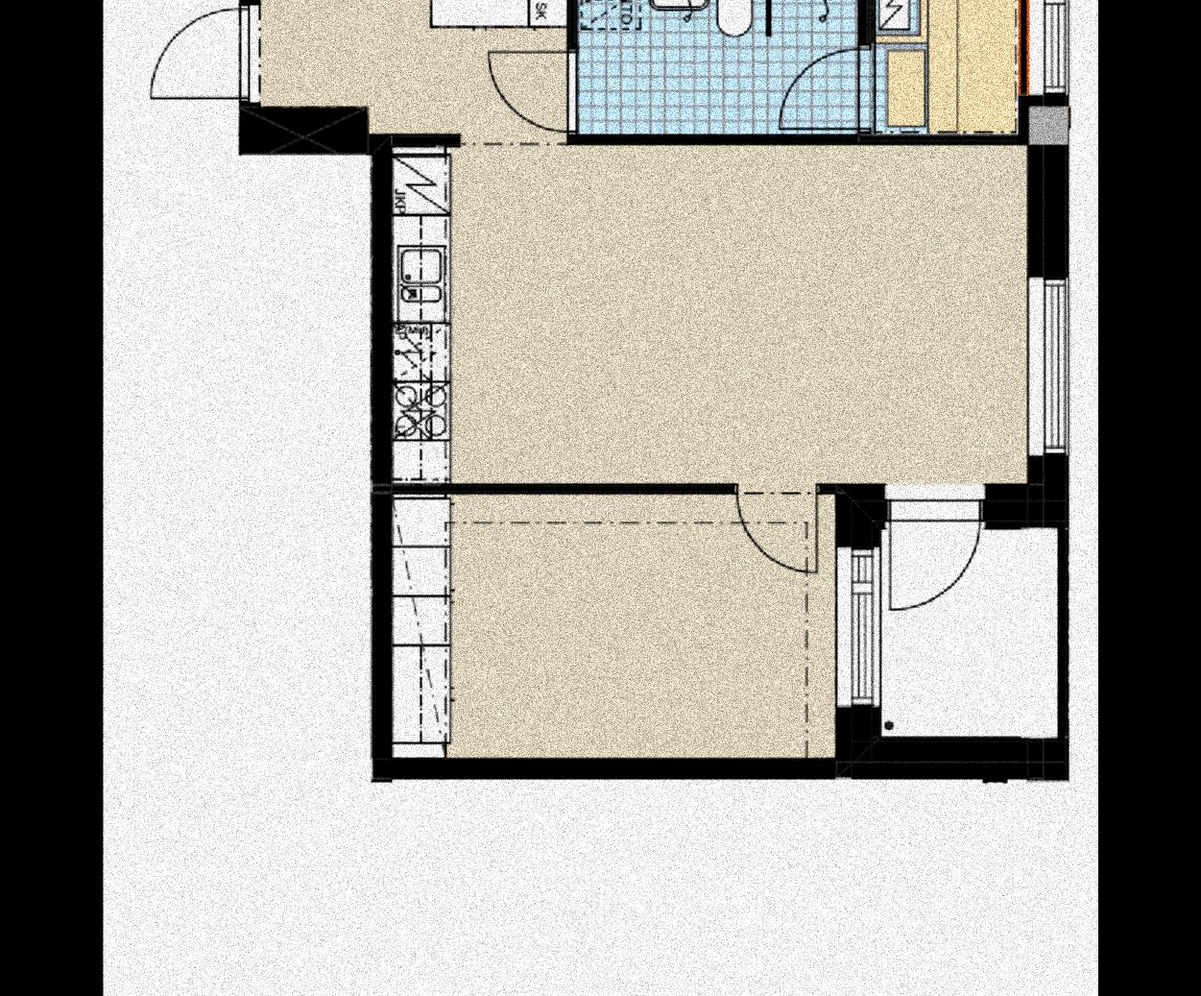door: (132, 0, 269, 105), (883, 496, 986, 627), (765, 43, 875, 132), (477, 51, 584, 128), (735, 478, 820, 574)
window: (840, 549, 876, 707), (1041, 278, 1067, 454), (1041, 0, 1069, 99)
zone: (391, 141, 1024, 487), (382, 494, 832, 767), (878, 494, 1061, 751), (261, 0, 564, 134), (581, 0, 865, 139), (875, 0, 1026, 133)
